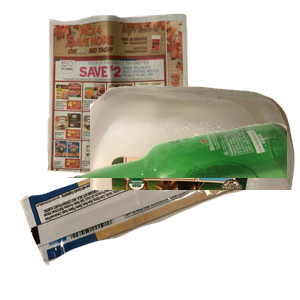glass: (60, 120, 300, 300)
paper: (44, 11, 229, 181)
plastic: (90, 82, 300, 262)
trash: (17, 123, 257, 300)
